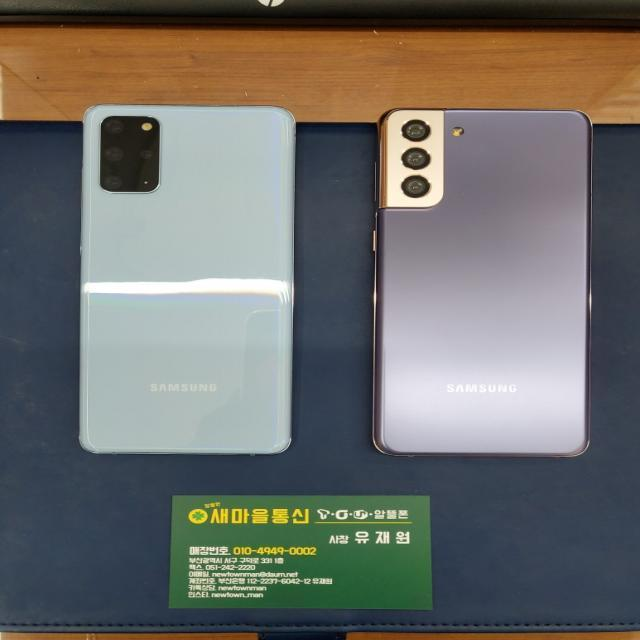phone: (83, 106, 296, 453), (378, 106, 589, 456)
